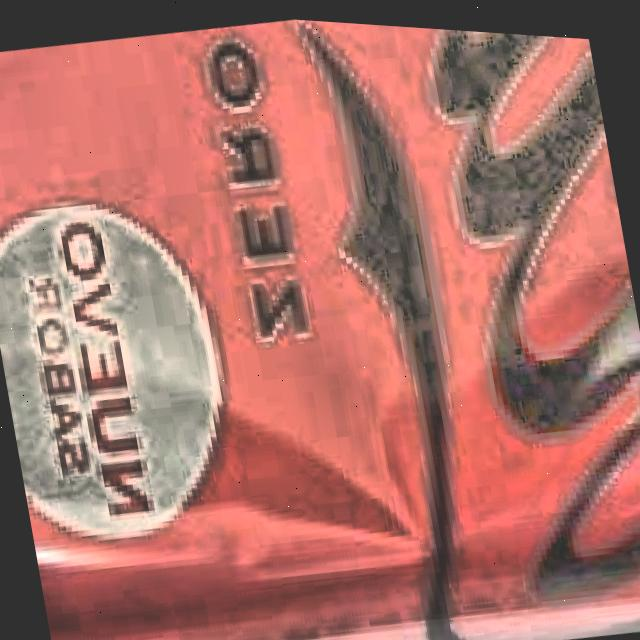metal: (0, 15, 640, 640)
